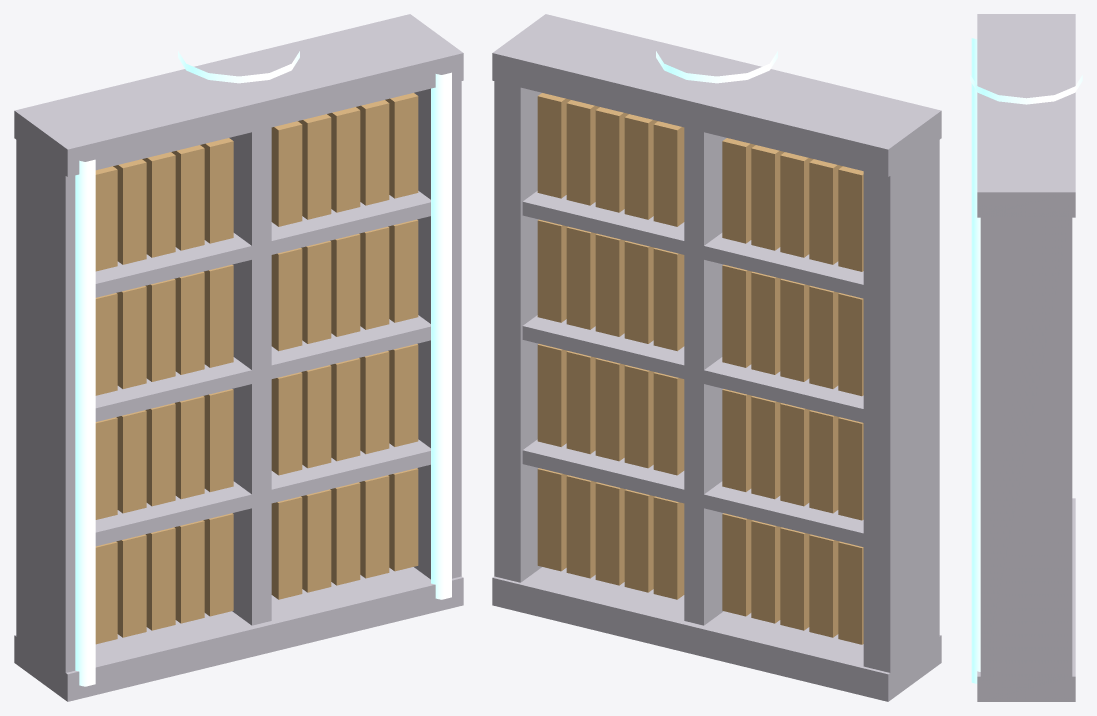
Rendered from astral_library_shelf.glb.
3 renders of one model, left to right at view 1: azimuth 30°, elevation 25°; view 2: azimuth 150°, elevation 25°; view 3: azimuth 270°, elevation 25°, orthographic. The views are drawn at different scales.
Parts seen in each view (by area): view 1: RootNode; view 2: RootNode; view 3: RootNode.
Boxes of the visible parts, x1,y1,x2,y2 form: RootNode: (14,14,463,701); RootNode: (492,14,941,701); RootNode: (970,14,1082,701).
Size of the model in its own units: 3 by 4.22 by 0.8.
